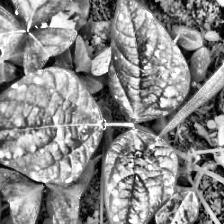Bean Rust: (0, 67, 103, 184), (104, 0, 190, 120), (103, 124, 180, 224)
